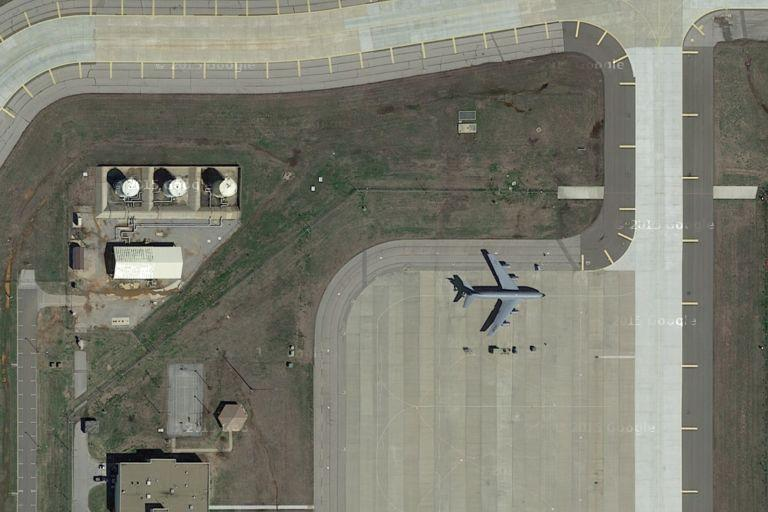KC-135: (451, 250, 544, 333)
